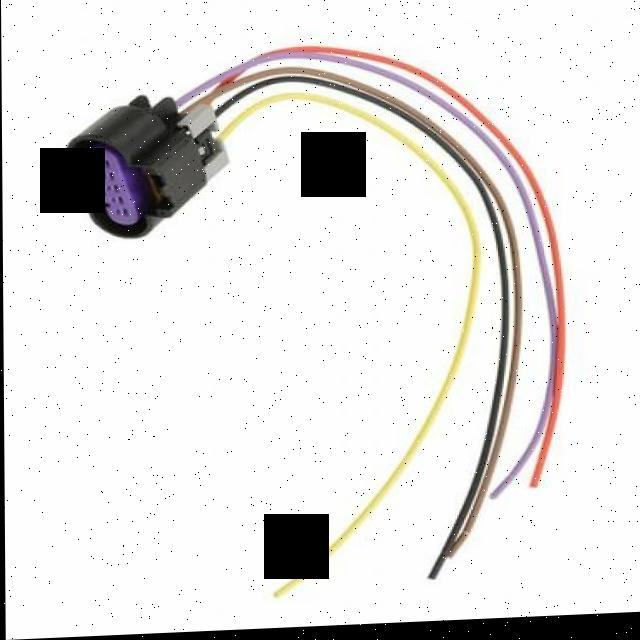connector: (46, 63, 247, 256)
